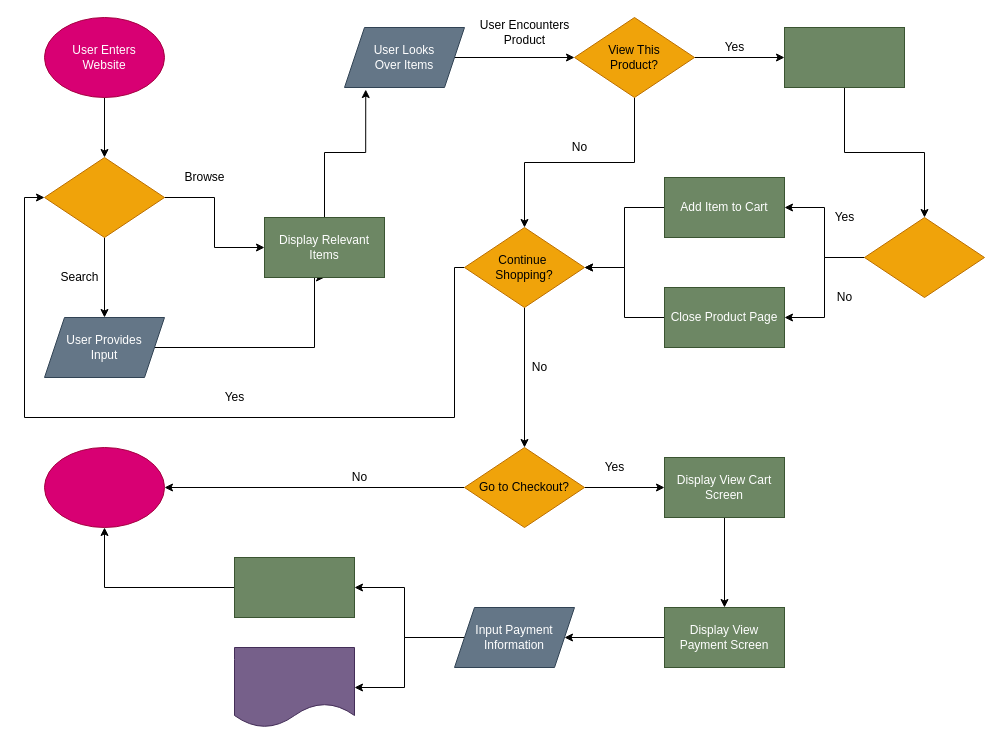
This 1002x745 diagram has some shape labels left out. Here are the shapes that lost their labels. From the top down, the centre of each, then its label:
point (844, 57): Open Product Page
point (104, 197): Search or Browse?
point (924, 257): Add to Cart?
point (104, 487): User Leaves Website
point (294, 587): Display Order Confirmation Screen
point (294, 687): User Receives Email
